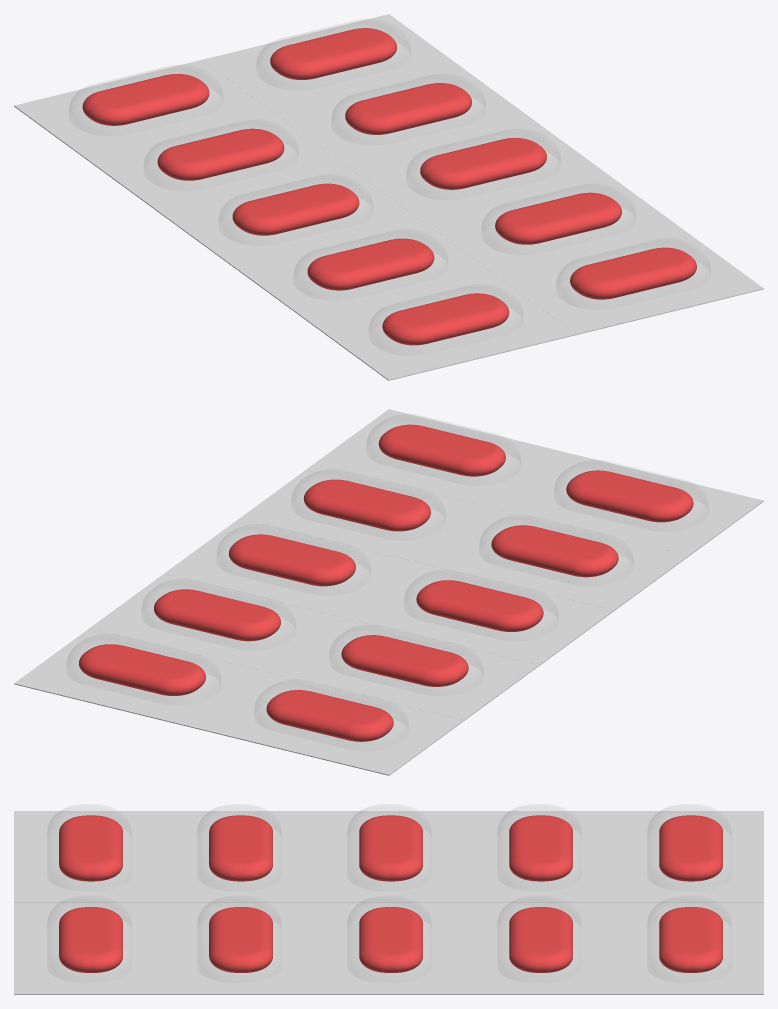
File: Capsule_Pill_2x5_Red.glb
3 renders of one model, top to bottom at view 1: azimuth 30°, elevation 25°; view 2: azimuth 150°, elevation 25°; view 3: azimuth 270°, elevation 25°, orthographic.
Visible parts, largest first — view 1: Capsule_Pill_Base_2x5, Capsule_Pill_2x5, Capsule_Pill_Lid_2x5, Capsule_Pill_Shell_2x5; view 2: Capsule_Pill_Base_2x5, Capsule_Pill_2x5, Capsule_Pill_Lid_2x5, Capsule_Pill_Shell_2x5; view 3: Capsule_Pill_Base_2x5, Capsule_Pill_2x5, Capsule_Pill_Lid_2x5, Capsule_Pill_Shell_2x5.
Boxes of the visible parts, x1,y1,x2,y2 form: Capsule_Pill_Base_2x5: (14, 14, 763, 380); Capsule_Pill_2x5: (82, 28, 696, 345); Capsule_Pill_Lid_2x5: (68, 42, 711, 355); Capsule_Pill_Shell_2x5: (69, 19, 710, 333); Capsule_Pill_Base_2x5: (14, 409, 763, 775); Capsule_Pill_2x5: (79, 424, 693, 741); Capsule_Pill_Lid_2x5: (66, 437, 708, 751); Capsule_Pill_Shell_2x5: (67, 414, 708, 729); Capsule_Pill_Base_2x5: (14, 811, 763, 994); Capsule_Pill_2x5: (59, 815, 722, 972); Capsule_Pill_Lid_2x5: (46, 826, 731, 983); Capsule_Pill_Shell_2x5: (47, 804, 731, 928).
Bounding box in the file's own units: 6.8 × 0.4666 × 11.77.
